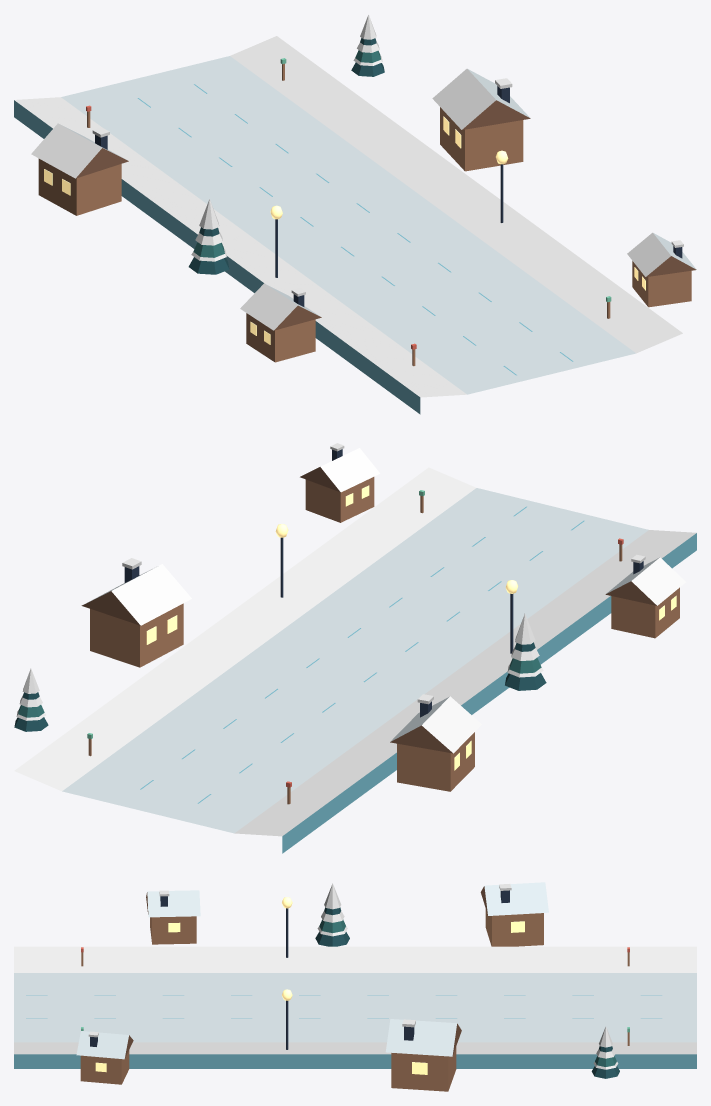
File: village.glb
3 renders of one model, top to bottom at view 1: azimuth 30°, elevation 25°; view 2: azimuth 150°, elevation 25°; view 3: azimuth 270°, elevation 25°, orthographic. The views are drawn at different scales.
Parts seen in each view (by area): view 1: Tile_village; view 2: Tile_village; view 3: Tile_village.
Boxes of the visible parts, bbox=[...] form: Tile_village: bbox=[14, 15, 696, 414]; Tile_village: bbox=[14, 443, 696, 853]; Tile_village: bbox=[14, 882, 696, 1091].
Size of the model in its own units: 17.8 by 3.48 by 30.
